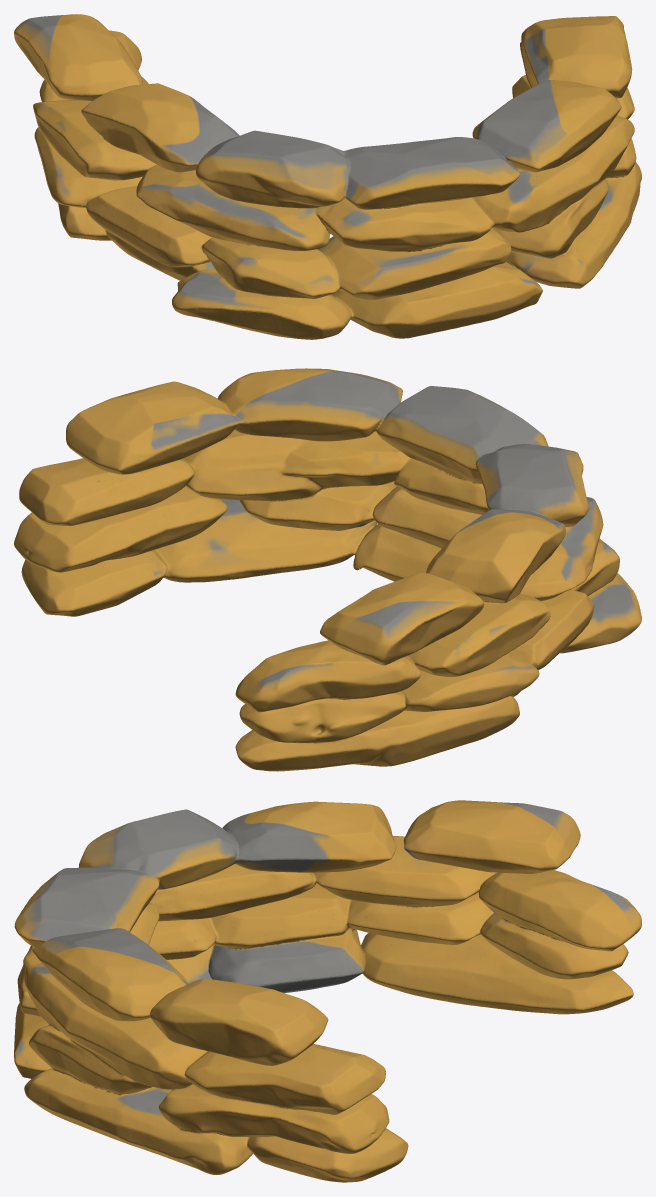
Rendered from StoneRing3D.fbx.
The picture shows the model from 3 angles, top to bottom: view 1: azimuth 30°, elevation 25°; view 2: azimuth 150°, elevation 25°; view 3: azimuth 270°, elevation 25°; orthographic projection.
Parts seen in each view (by area): view 1: tripo_node_45df8137; view 2: tripo_node_45df8137; view 3: tripo_node_45df8137.
Part boxes in pixels (x1=…): tripo_node_45df8137: x1=14, y1=14, x2=641, y2=339; tripo_node_45df8137: x1=14, y1=368, x2=641, y2=771; tripo_node_45df8137: x1=14, y1=800, x2=641, y2=1182.
Size of the model in its own units: 0.9871 by 0.3055 by 1.
